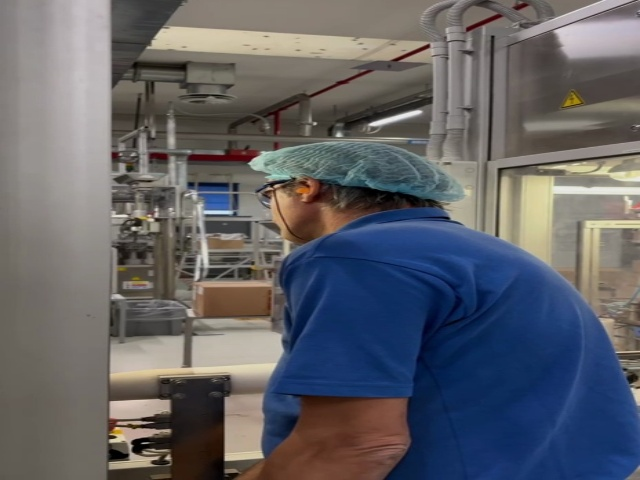Earplug: (293, 176, 319, 204)
Hairnet: (250, 142, 467, 201)
No_Helmet: (250, 141, 469, 197)
No_Vest: (278, 228, 640, 480)
Person: (249, 138, 640, 480)
Safety_Goggles: (254, 176, 301, 210)
